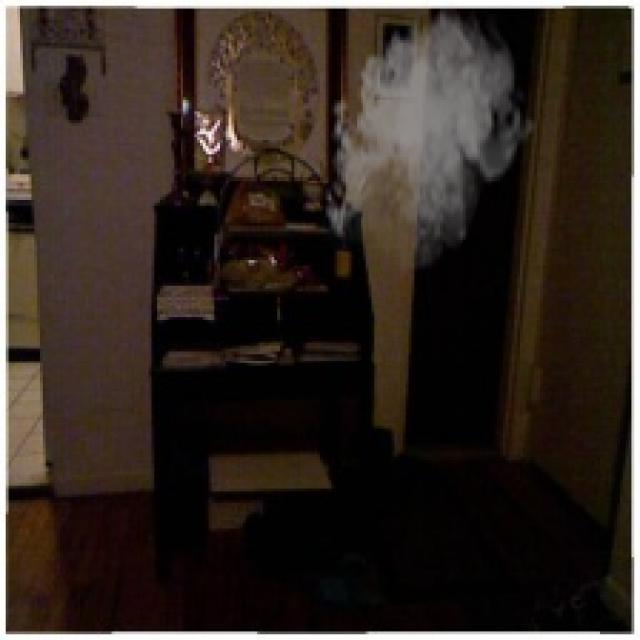smoke: (320, 0, 537, 277)
